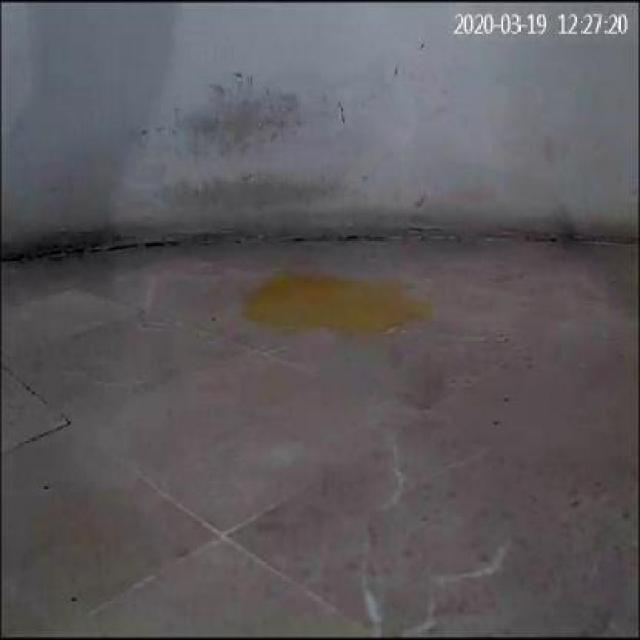spill: (240, 262, 428, 330)
